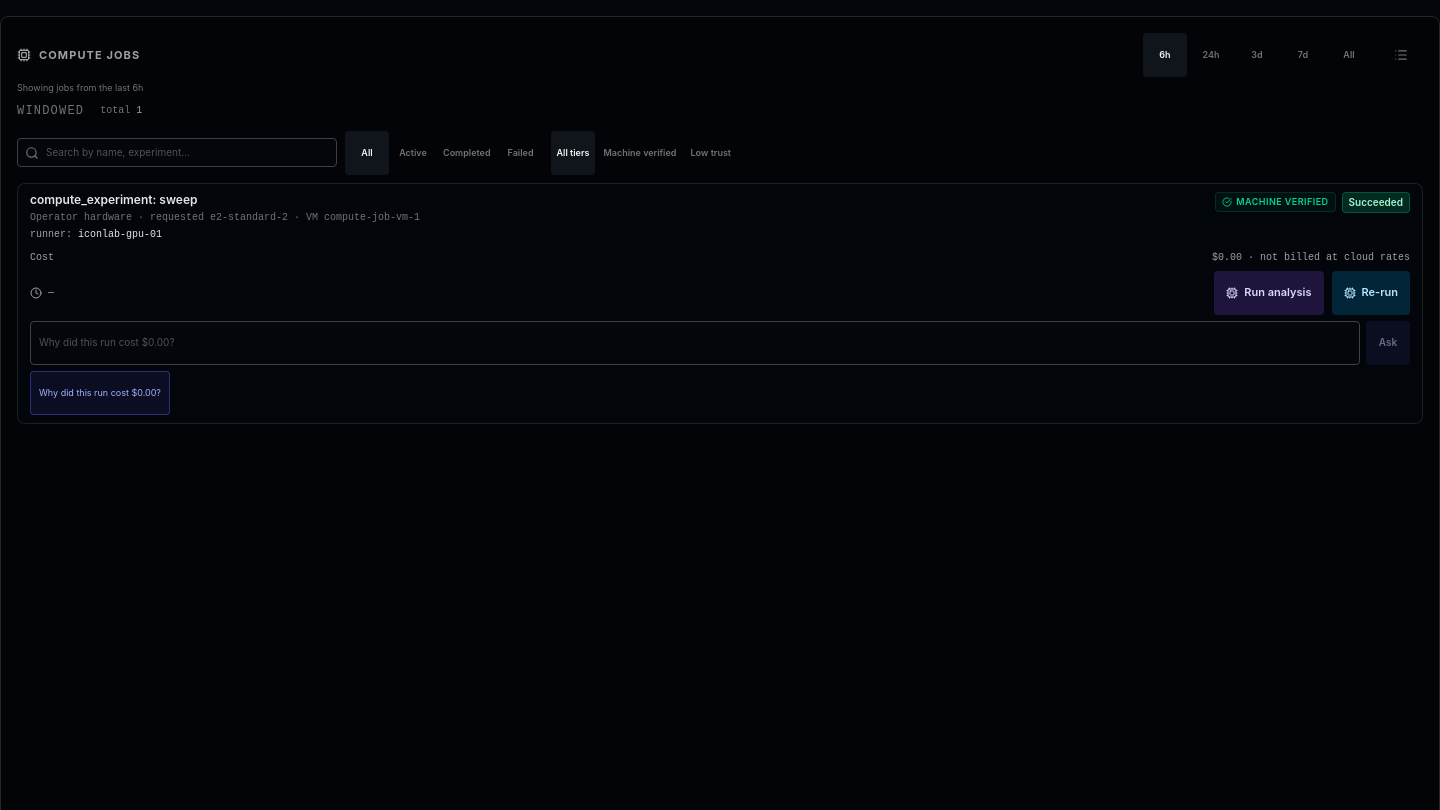
ComputeJobsPanel evidence-tier badge rendering › compact jobs table renders evidence-tier badge and runner id for terminal jobs
This screenshot has width=1440, height=810.
Expected: the text "Machine verified" is shown, [1215,192,1336,212]
Click the button with test id "compute-view-mode-toggle" at (1401, 55), box [1379,33,1423,77]
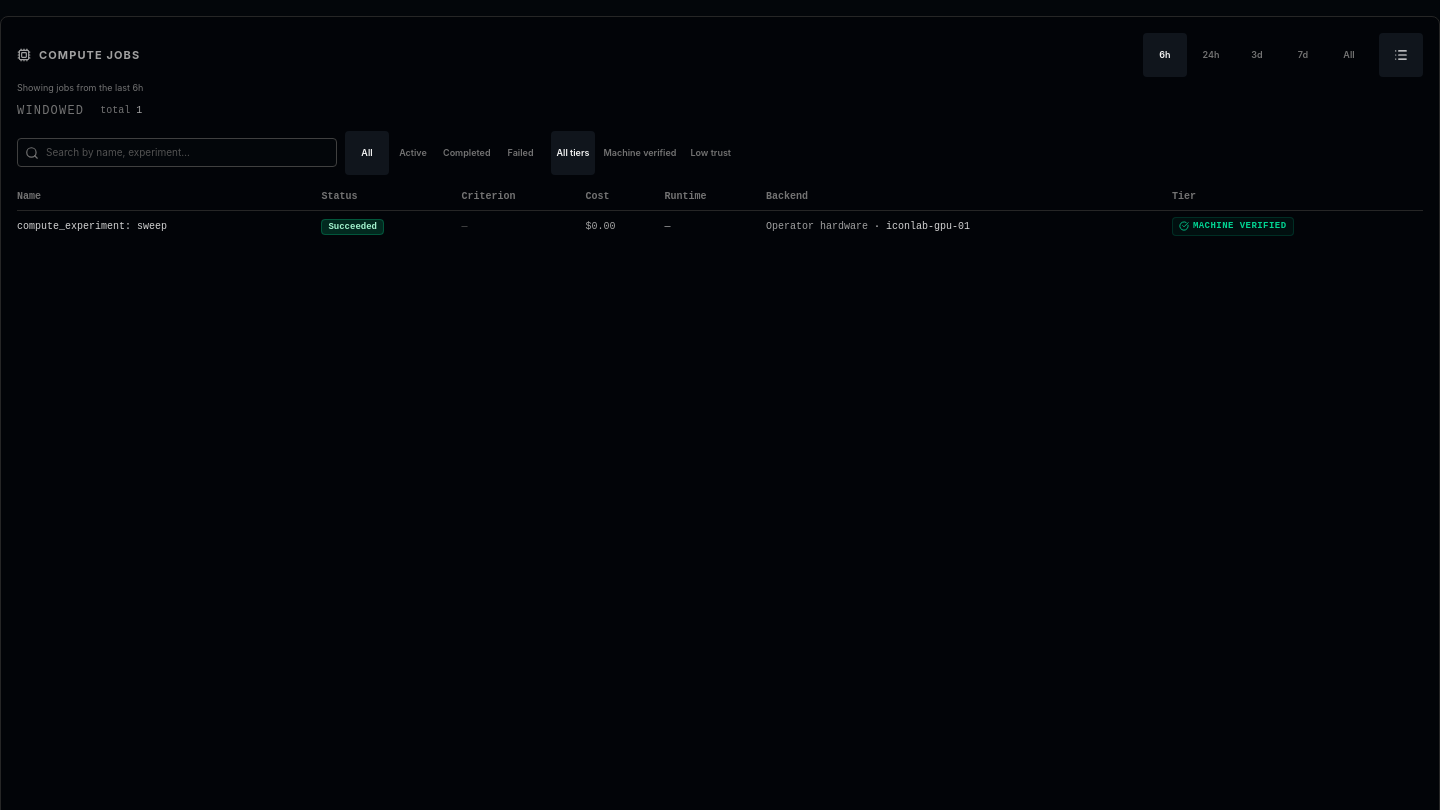
Now the element with test id "compact-jobs-table" shows "Machine verified", box [1193,220,1286,230]
Now the element with test id "compact-jobs-table" shows "iconlab-gpu-01", box [886,221,970,232]
